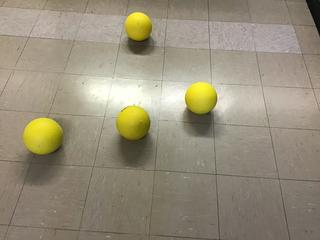power_cell: (20, 117, 69, 156), (115, 104, 153, 144), (184, 79, 220, 118), (124, 10, 153, 42)
